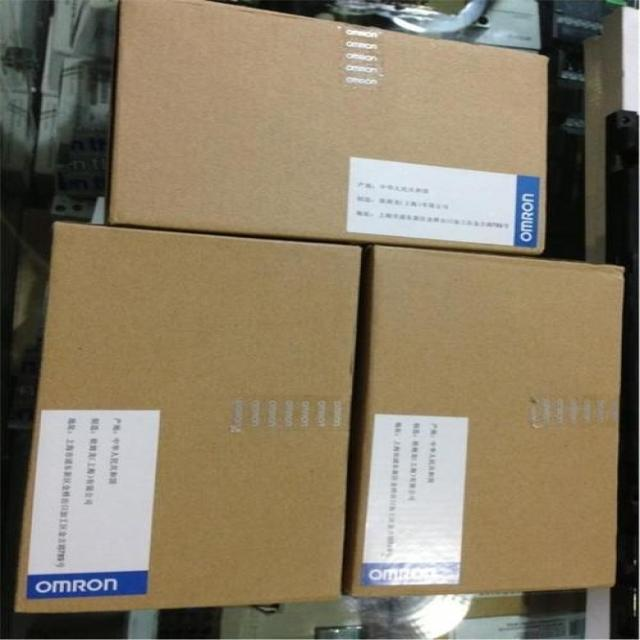Carton: (18, 223, 364, 611), (108, 1, 544, 250), (351, 249, 623, 589)
